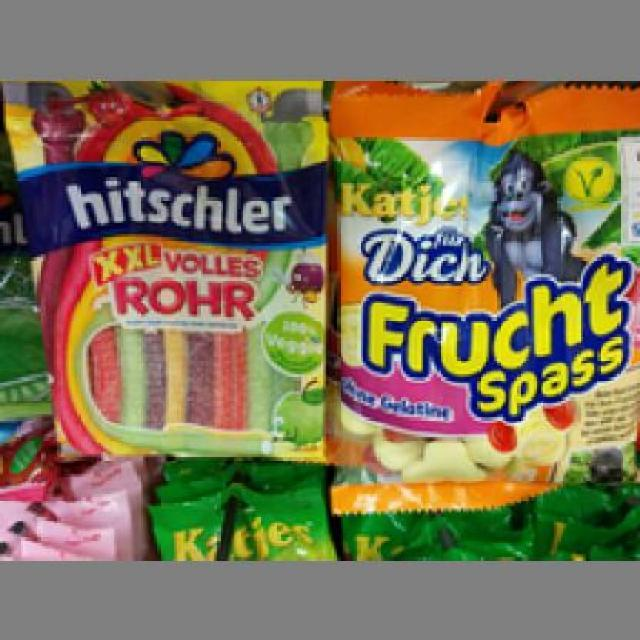Candy: (326, 77, 637, 506), (3, 77, 323, 457)
